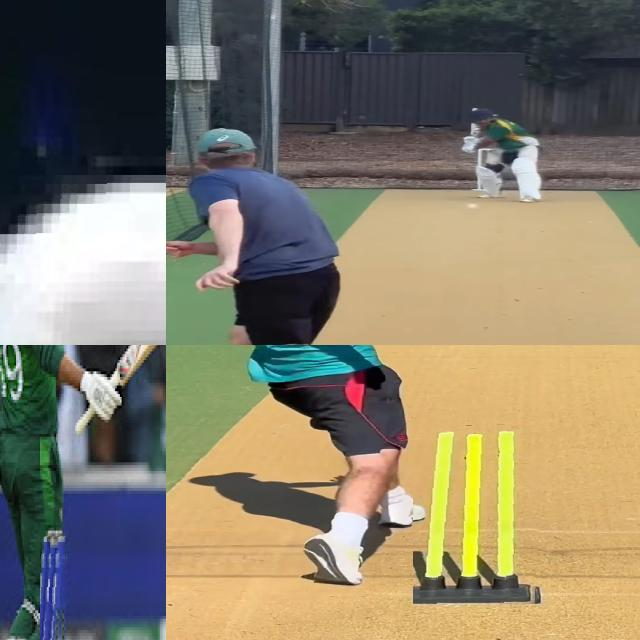Cricket ball: (0, 174, 166, 345), (464, 201, 480, 211)
Stumps: (413, 429, 545, 607), (39, 527, 68, 640)
